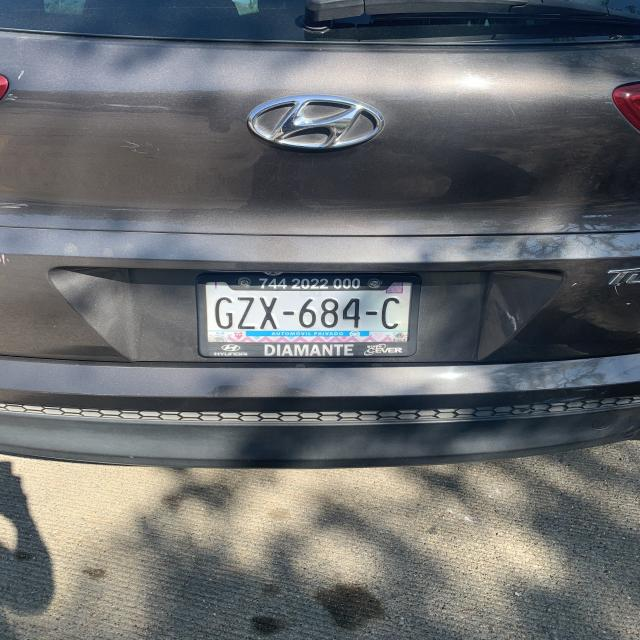placa: (196, 290, 410, 336)
